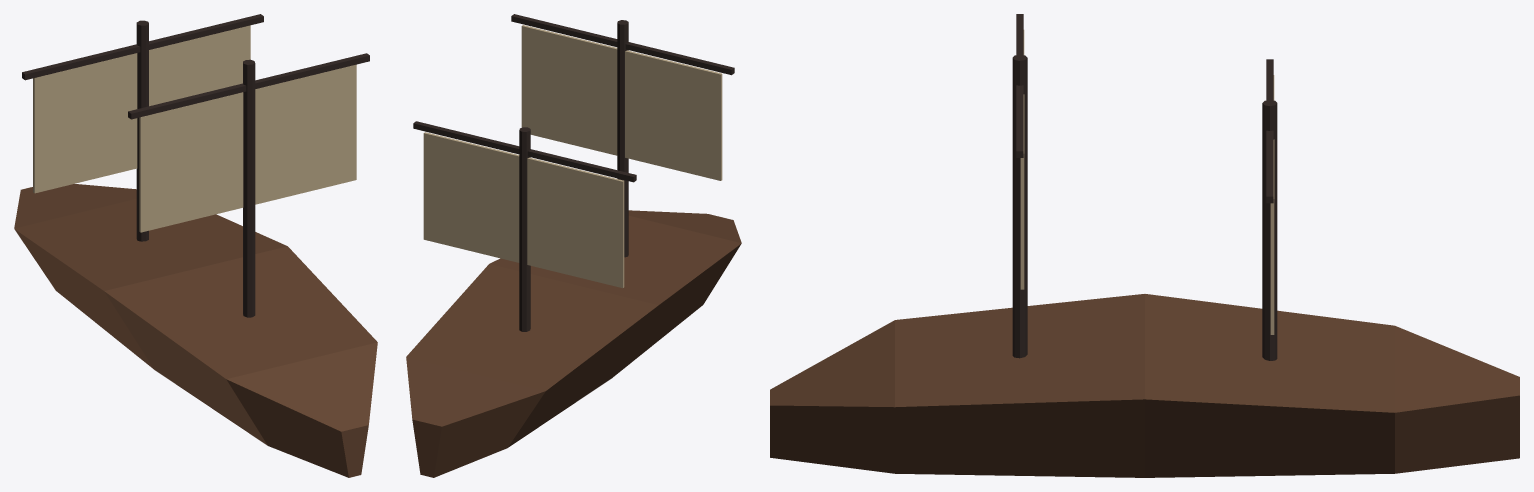
File: PirateCove_DistantGalleon_Simple.glb
The picture shows the model from 3 angles, left to right: view 1: azimuth 30°, elevation 25°; view 2: azimuth 150°, elevation 25°; view 3: azimuth 270°, elevation 25°; orthographic projection. The views are drawn at different scales.
Parts seen in each view (by area): view 1: PirateCove_DistantGalleon_Simple; view 2: PirateCove_DistantGalleon_Simple; view 3: PirateCove_DistantGalleon_Simple.
Boxes of the visible parts, box(x1,y1,x2,y2) form: PirateCove_DistantGalleon_Simple: box(14, 14, 377, 477); PirateCove_DistantGalleon_Simple: box(406, 14, 741, 477); PirateCove_DistantGalleon_Simple: box(770, 14, 1519, 477).
Size of the model in its own units: 5.2 by 7 by 12.
